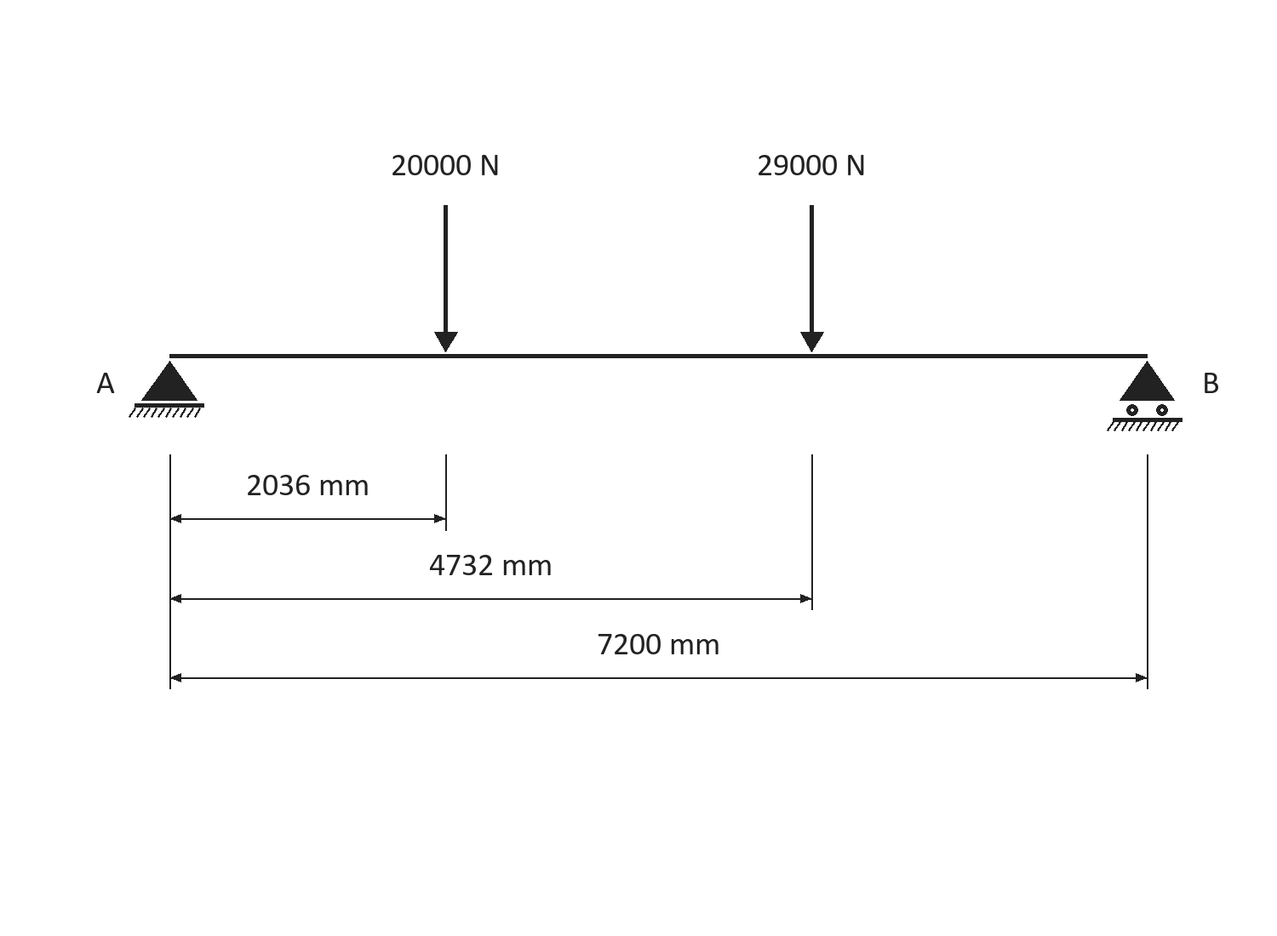pin_support: (129, 361, 204, 418)
point_load: (434, 205, 458, 352), (800, 205, 824, 352)
roller_support: (1107, 361, 1183, 431)
